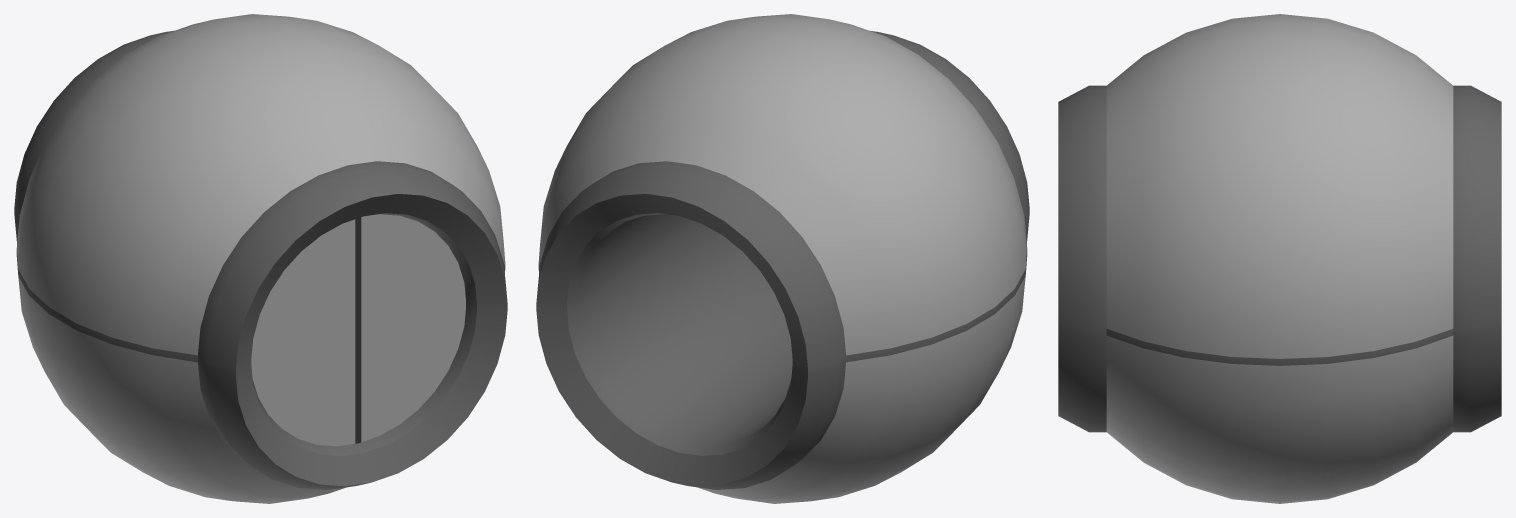
File: House Open Back.glb
3 renders of one model, left to right at view 1: azimuth 30°, elevation 25°; view 2: azimuth 150°, elevation 25°; view 3: azimuth 270°, elevation 25°, orthographic.
Parts seen in each view (by area): view 1: House_OpenBack; view 2: House_OpenBack; view 3: House_OpenBack.
Part boxes in pixels (bbox=[...]): House_OpenBack: bbox=[14, 14, 507, 503]; House_OpenBack: bbox=[536, 14, 1029, 503]; House_OpenBack: bbox=[1058, 14, 1501, 503].
Bounding box in the file's own units: 3.99 × 4 × 3.61.
1 material, 1 textured.
